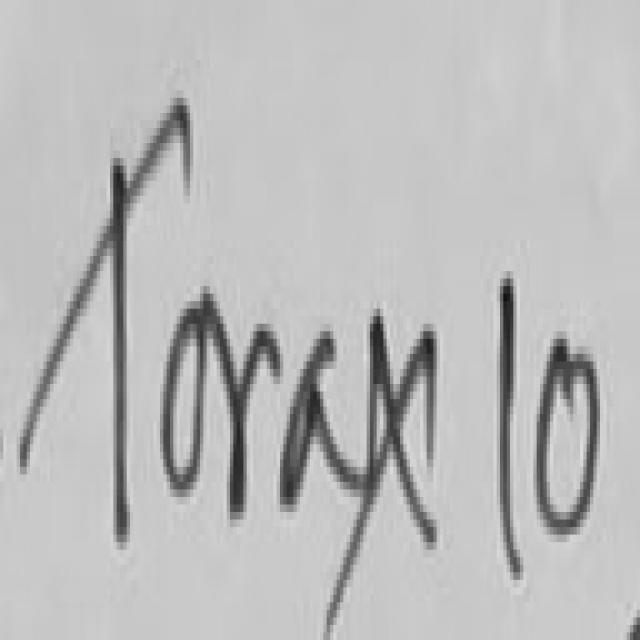0: (533, 308, 609, 548)
1: (480, 240, 532, 616)
T: (70, 84, 160, 554)
a: (276, 314, 341, 546)
o: (153, 276, 210, 498)
r: (208, 275, 276, 532)
x: (353, 284, 455, 559)
